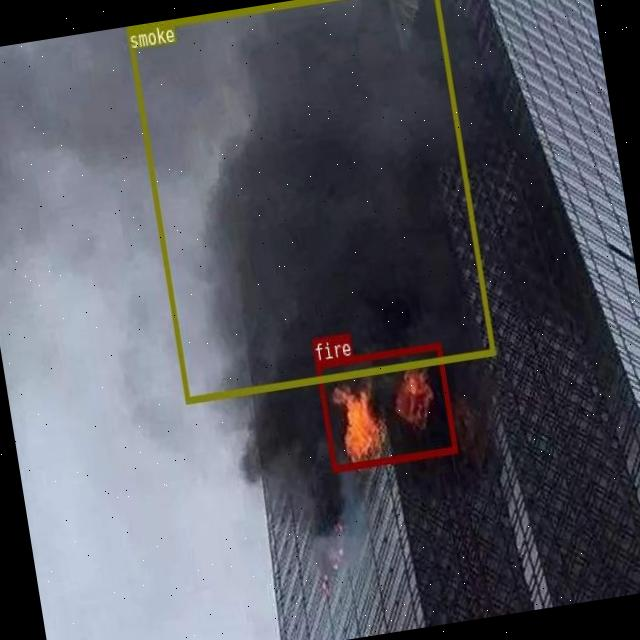fire: (316, 342, 458, 471)
smoke: (124, 0, 494, 403)
